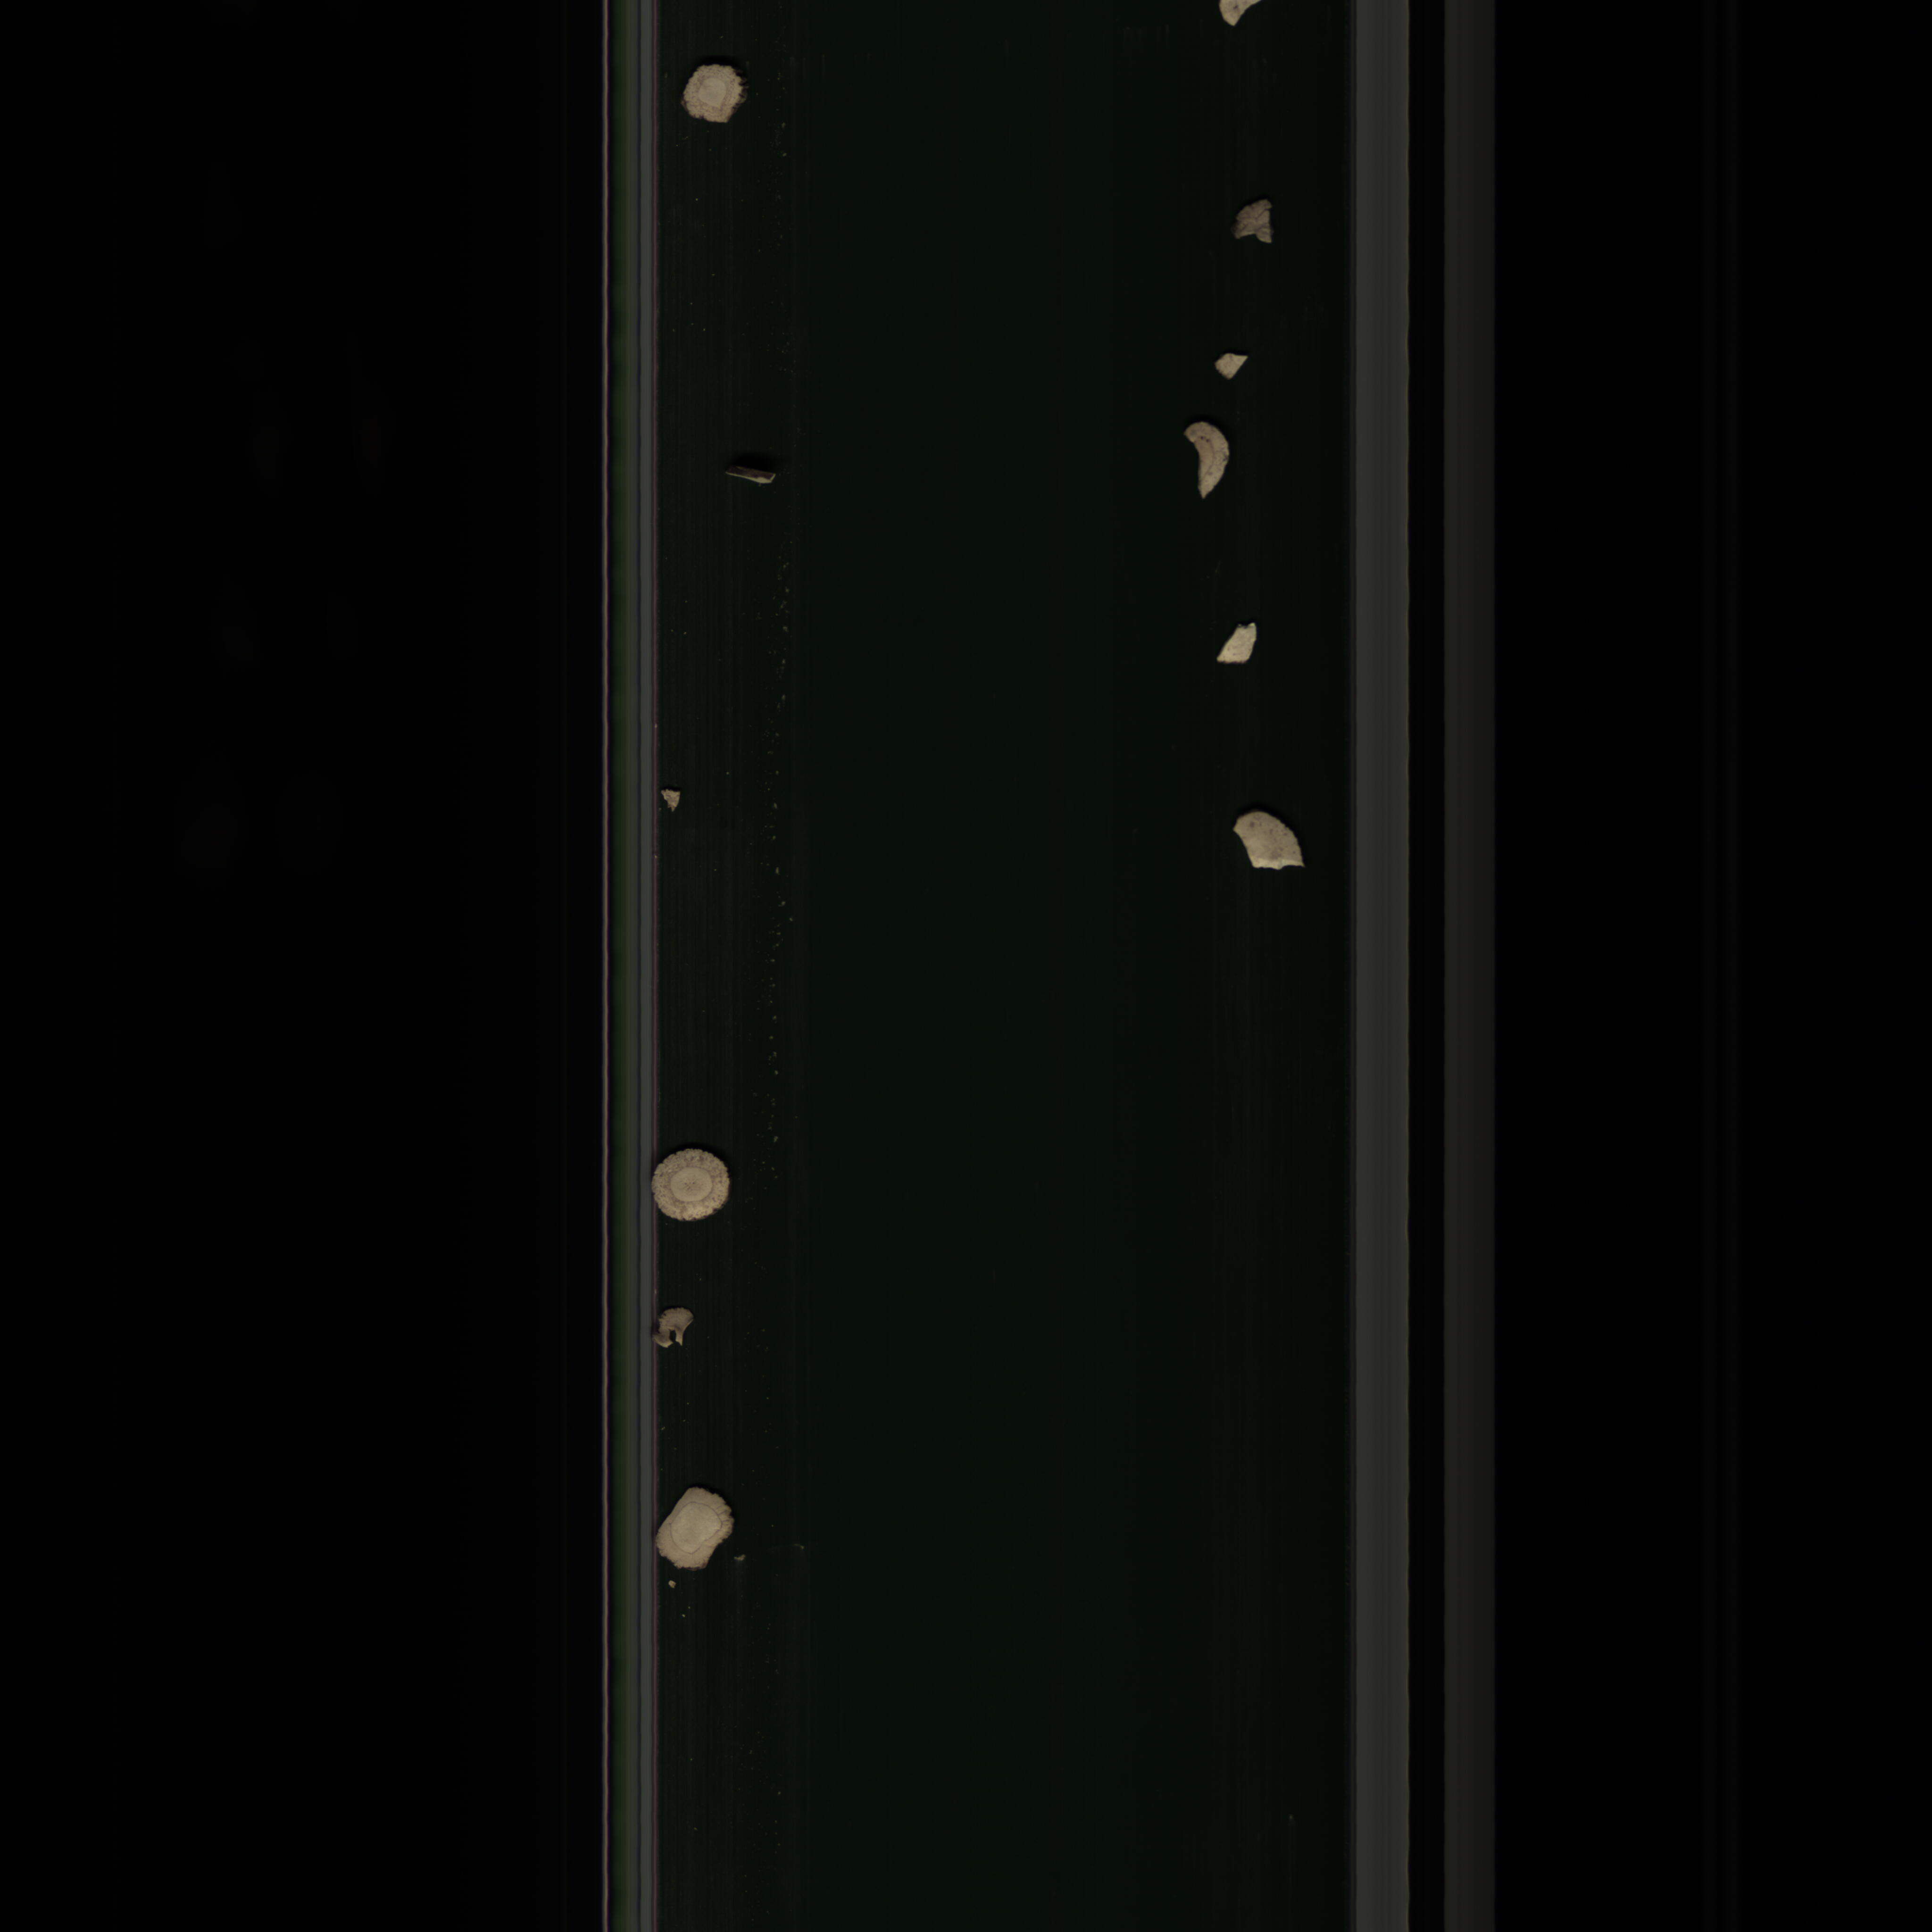bark: (1228, 189, 1286, 253), (718, 460, 793, 497), (648, 1307, 699, 1350)
debris: (649, 1472, 745, 1580), (1221, 810, 1309, 879), (1178, 419, 1233, 510), (1208, 614, 1261, 669), (1207, 343, 1253, 389)
moldy: (678, 58, 750, 133)
